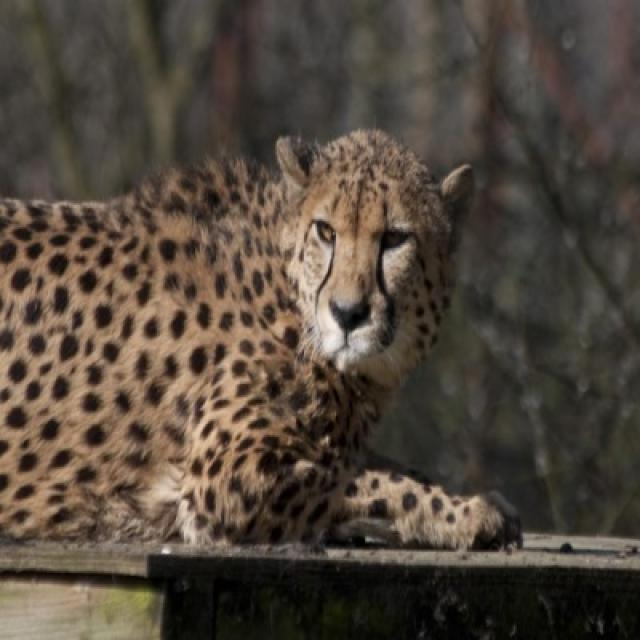Cheetah: (0, 130, 518, 546)
